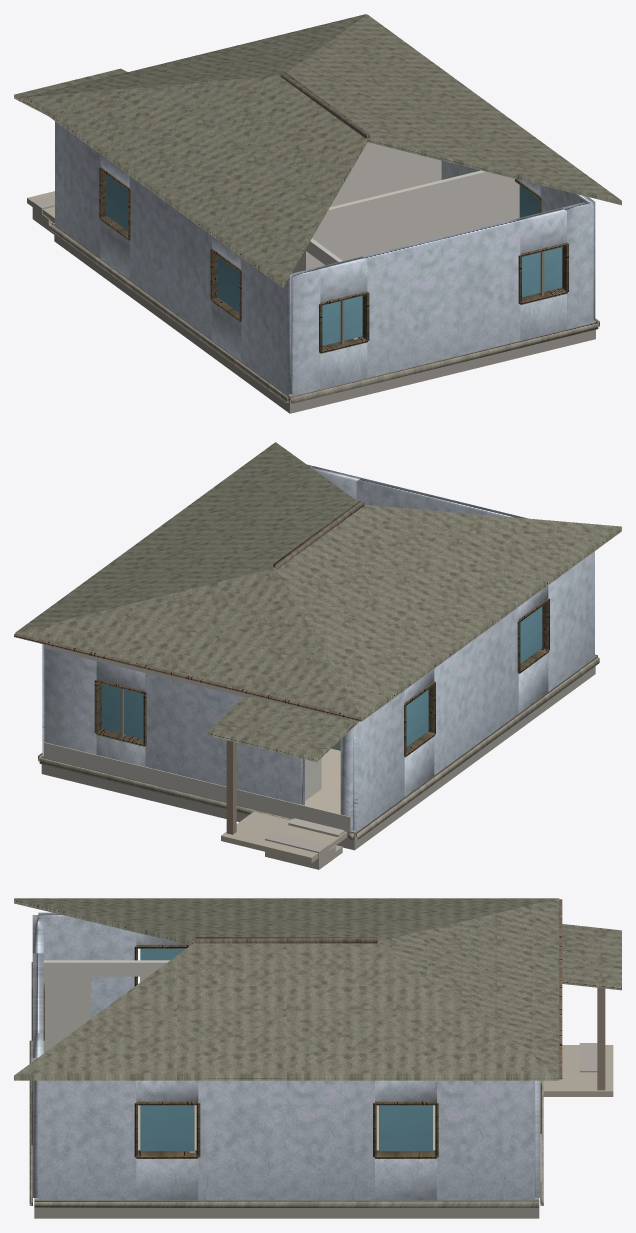
Rendered from HAB_221_Z2_R14_ALBEDO_OTIM_CANDIDATO.gltf.
The picture shows the model from 3 angles, top to bottom: view 1: azimuth 30°, elevation 25°; view 2: azimuth 150°, elevation 25°; view 3: azimuth 270°, elevation 25°; orthographic projection. The views are drawn at different scales.
Visible parts, largest first — view 1: HAB_221_COBERTURA_AGUA_ESQUERDA, HAB_221_COBERTURA_AGUA_DIREITA, HAB_221_FACHADA_FUNDOS_PAREDE_1, HAB_221_DIVISA_AMBIENTE_1_PAREDE_FINAL, HAB_221_LATERAL_O_PAREDE_1, HAB_221_COBERTURA_AGUA_FRENTE, HAB_221_FUNDACAO, HAB_221_LATERAL_O_PAREDE_FINAL, HAB_221_LATERAL_O_PAREDE_0, HAB_221_REV26_ARREMATE_EMBASAMENTO, HAB_221_DIVISA_AMBIENTE_0_PAREDE_FINAL, HAB_221_FACHADA_FUNDOS_PAREDE_0 (+14 smaller); view 2: HAB_221_COBERTURA_AGUA_ESQUERDA, HAB_221_COBERTURA_AGUA_FRENTE, HAB_221_COBERTURA_AGUA_DIREITA, HAB_221_FACHADA_FRONTAL_PAREDE_1, HAB_221_LATERAL_O_PAREDE_1, HAB_221_VARANDA_COBERTURA, HAB_221_LATERAL_O_PAREDE_0, HAB_221_LATERAL_O_PAREDE_FINAL, HAB_221_FACHADA_FRONTAL_PAREDE_FINAL, HAB_221_COSTEIRA_BARRA_BASE, HAB_221_FUNDACAO, HAB_221_REV26_ARREMATE_EMBASAMENTO (+18 smaller); view 3: HAB_221_COBERTURA_AGUA_DIREITA, HAB_221_LATERAL_L_PAREDE_1, HAB_221_COBERTURA_AGUA_ESQUERDA, HAB_221_COBERTURA_AGUA_FRENTE, HAB_221_LATERAL_L_PAREDE_FINAL, HAB_221_LATERAL_L_PAREDE_0, HAB_221_FUNDACAO, HAB_221_LATERAL_O_PAREDE_FINAL, HAB_221_REV26_ARREMATE_EMBASAMENTO, HAB_221_VARANDA_COBERTURA, HAB_221_DIVISA_CORREDOR_LATERAL_PAREDE_FINAL, HAB_221_LATERAL_L_PEITORIL_1 (+18 smaller).
Part boxes in pixels (<box>): HAB_221_COBERTURA_AGUA_ESQUERDA: <box>28,75,367,287</box>; HAB_221_COBERTURA_AGUA_DIREITA: <box>286,14,621,205</box>; HAB_221_FACHADA_FUNDOS_PAREDE_1: <box>362,219,520,377</box>; HAB_221_DIVISA_AMBIENTE_1_PAREDE_FINAL: <box>310,170,519,268</box>; HAB_221_LATERAL_O_PAREDE_1: <box>129,176,211,339</box>; HAB_221_COBERTURA_AGUA_FRENTE: <box>29,14,366,96</box>; HAB_221_FUNDACAO: <box>54,223,595,413</box>; HAB_221_LATERAL_O_PAREDE_FINAL: <box>241,257,294,394</box>; HAB_221_LATERAL_O_PAREDE_0: <box>55,121,100,258</box>; HAB_221_REV26_ARREMATE_EMBASAMENTO: <box>50,222,599,403</box>; HAB_221_DIVISA_AMBIENTE_0_PAREDE_FINAL: <box>330,142,441,207</box>; HAB_221_FACHADA_FUNDOS_PAREDE_0: <box>290,268,320,395</box>; HAB_221_COBERTURA_AGUA_ESQUERDA: <box>275,504,621,721</box>; HAB_221_COBERTURA_AGUA_FRENTE: <box>15,568,361,721</box>; HAB_221_COBERTURA_AGUA_DIREITA: <box>16,442,357,632</box>; HAB_221_FACHADA_FRONTAL_PAREDE_1: <box>145,673,304,805</box>; HAB_221_LATERAL_O_PAREDE_1: <box>434,607,518,774</box>; HAB_221_VARANDA_COBERTURA: <box>207,695,358,762</box>; HAB_221_LATERAL_O_PAREDE_0: <box>353,690,404,831</box>; HAB_221_LATERAL_O_PAREDE_FINAL: <box>548,551,594,691</box>; HAB_221_FACHADA_FRONTAL_PAREDE_FINAL: <box>44,648,96,754</box>; HAB_221_COSTEIRA_BARRA_BASE: <box>44,742,350,832</box>; HAB_221_FUNDACAO: <box>41,656,595,850</box>; HAB_221_REV26_ARREMATE_EMBASAMENTO: <box>38,654,599,839</box>; HAB_221_COBERTURA_AGUA_DIREITA: <box>14,942,559,1080</box>; HAB_221_LATERAL_L_PAREDE_1: <box>198,1080,374,1200</box>; HAB_221_COBERTURA_AGUA_ESQUERDA: <box>14,898,558,945</box>; HAB_221_COBERTURA_AGUA_FRENTE: <box>378,898,559,1074</box>; HAB_221_LATERAL_L_PAREDE_FINAL: <box>38,1080,136,1200</box>; HAB_221_LATERAL_L_PAREDE_0: <box>437,1080,534,1200</box>; HAB_221_FUNDACAO: <box>34,1198,539,1218</box>; HAB_221_LATERAL_O_PAREDE_FINAL: <box>38,912,136,1018</box>; HAB_221_REV26_ARREMATE_EMBASAMENTO: <box>29,1040,543,1207</box>; HAB_221_VARANDA_COBERTURA: <box>562,924,621,990</box>; HAB_221_DIVISA_CORREDOR_LATERAL_PAREDE_FINAL: <box>43,960,90,1053</box>; HAB_221_LATERAL_L_PEITORIL_1: <box>136,1159,198,1200</box>.
Bounding box in the file's own units: 8.31 × 4.37 × 12.04.
8 materials, 8 textured.
